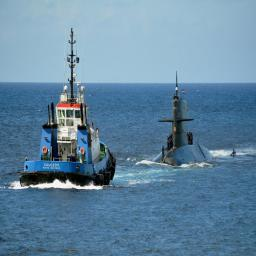submarine: (149, 69, 241, 170)
